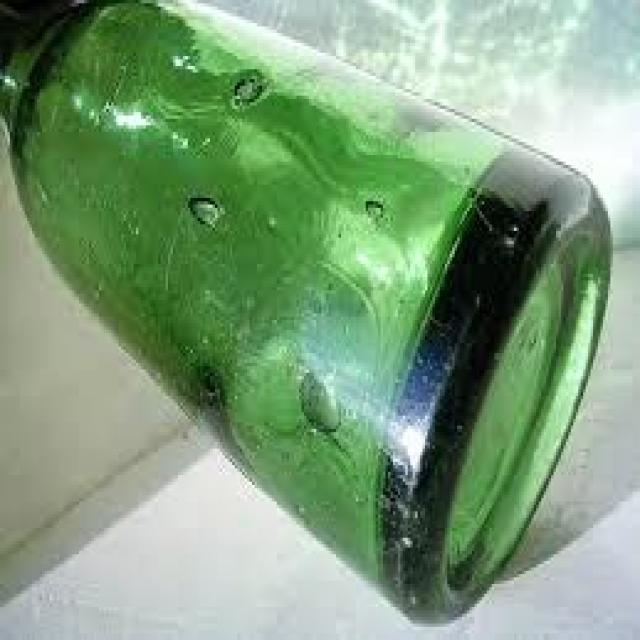glass: (0, 0, 613, 624)
